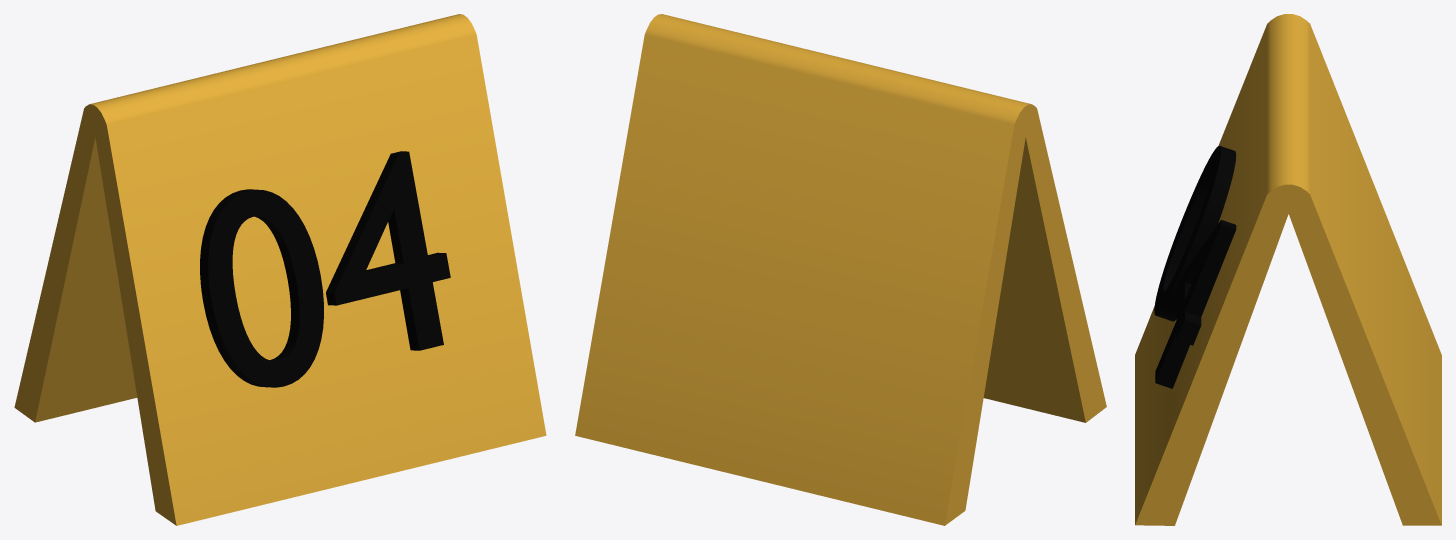
3 renders of one model, left to right at view 1: azimuth 30°, elevation 25°; view 2: azimuth 150°, elevation 25°; view 3: azimuth 270°, elevation 25°, orthographic. The views are drawn at different scales.
Parts seen in each view (by area): view 1: Bordje, Text.003; view 2: Bordje; view 3: Bordje, Text.003.
Part boxes in pixels (x1,y1,x2,y2): Bordje: [14, 14, 546, 525]; Text.003: [200, 151, 450, 387]; Bordje: [575, 14, 1106, 525]; Bordje: [1135, 14, 1441, 525]; Text.003: [1154, 146, 1236, 388].
Size of the model in its own units: 342 by 319 by 260.
